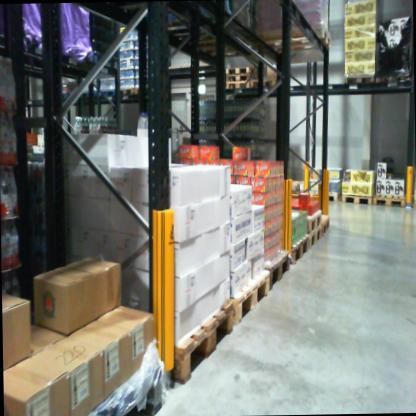pallet: (158, 295, 236, 398), (80, 352, 169, 415), (250, 20, 336, 72), (223, 265, 273, 333), (257, 248, 296, 300), (264, 231, 310, 275), (81, 47, 128, 73), (290, 208, 324, 237), (368, 188, 406, 212), (374, 68, 409, 90), (311, 188, 343, 211), (342, 71, 374, 92), (337, 191, 372, 207), (221, 64, 248, 84), (316, 211, 334, 236), (246, 78, 278, 92), (304, 225, 321, 251), (223, 80, 248, 93), (114, 87, 135, 101), (97, 84, 118, 98)
